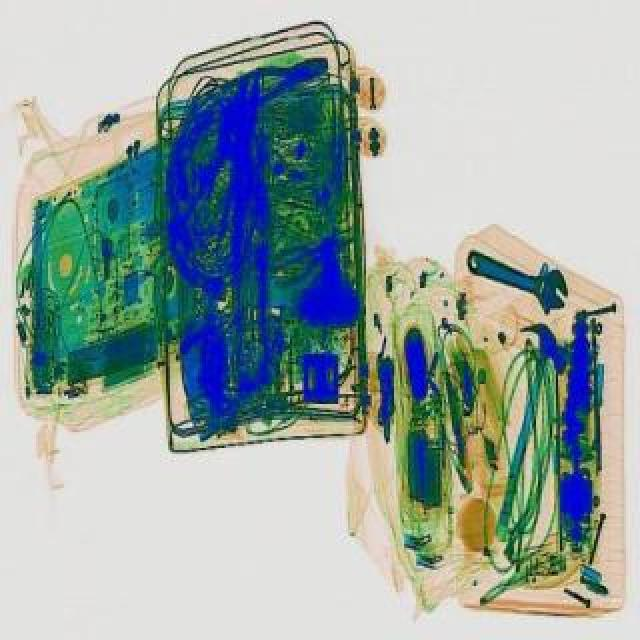scissors: (456, 236, 578, 318)
wrench: (216, 46, 336, 114), (264, 220, 360, 286)
